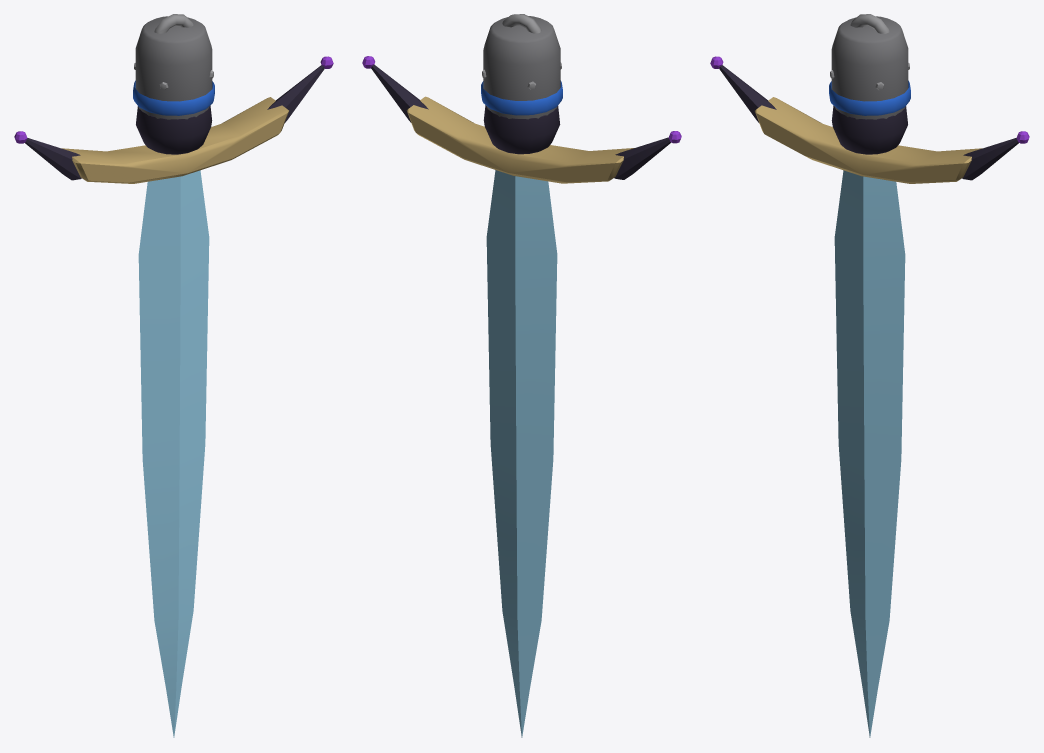
The model's file is Kit_Blade_LeagueCrystal.glb.
3 renders of one model, left to right at view 1: azimuth 30°, elevation 25°; view 2: azimuth 150°, elevation 25°; view 3: azimuth 330°, elevation 25°, orthographic.
Visible parts, largest first — view 1: Kit_Blade_LeagueCrystal; view 2: Kit_Blade_LeagueCrystal; view 3: Kit_Blade_LeagueCrystal.
Boxes of the visible parts, x1,y1,x2,y2 form: Kit_Blade_LeagueCrystal: (14, 14, 333, 737); Kit_Blade_LeagueCrystal: (362, 14, 681, 737); Kit_Blade_LeagueCrystal: (710, 14, 1029, 737).
Size of the model in its own units: 0.324 by 0.7053 by 0.0728.
